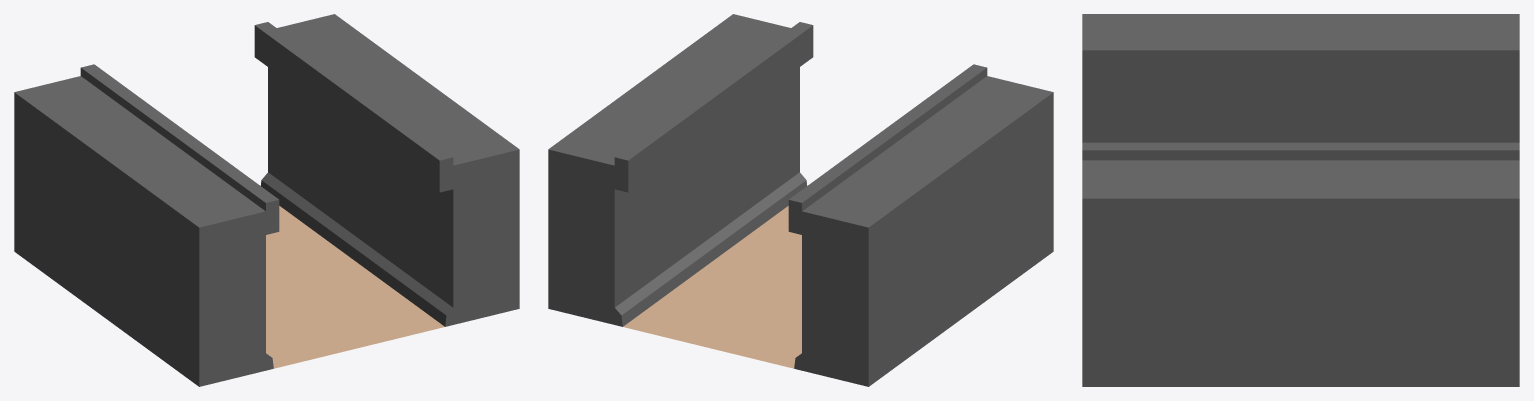
File: Segment_Straight.FBX
3 views of the same model, side by side, from view 1: azimuth 30°, elevation 25°; view 2: azimuth 150°, elevation 25°; view 3: azimuth 270°, elevation 25° (orthographic). The views are drawn at different scales.
Parts seen in each view (by area): view 1: Box074, Box070, Plane006, Box071, Box072, Box073, Box069, Box068, Box067; view 2: Box073, Box067, Plane006, Box072, Box071, Box074, Box068, Box069, Box070; view 3: Box067, Box070, Box068, Box069, Box071, Box072, Box073, Box074.
Part boxes in pixels (x1,y1,x2,y2): Box074: (153,166,279,386); Box070: (393,115,519,326); Plane006: (266,206,444,368); Box071: (106,132,232,352); Box072: (60,98,186,318); Box073: (14,64,139,284); Box069: (347,82,472,292); Box068: (301,48,426,258); Box067: (254,14,380,224); Box073: (788,166,914,386); Box067: (548,115,674,326); Plane006: (623,206,801,368); Box072: (835,132,961,352); Box071: (881,98,1007,318); Box074: (928,64,1053,284); Box068: (595,82,720,292); Box069: (641,48,766,258); Box070: (687,14,813,224); Box067: (1410,142,1519,386); Box070: (1082,142,1191,386); Box068: (1301,142,1410,386); Box069: (1191,142,1300,386); Box071: (1191,14,1300,142); Box072: (1301,14,1410,142); Box073: (1410,14,1519,142); Box074: (1082,14,1191,142).
Bounding box in the file's own units: 400 × 200 × 400.
